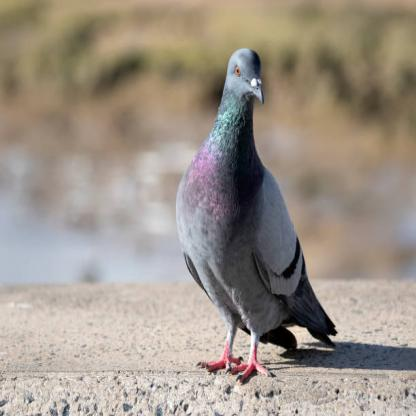Rock Pigeon: (176, 47, 341, 365)
